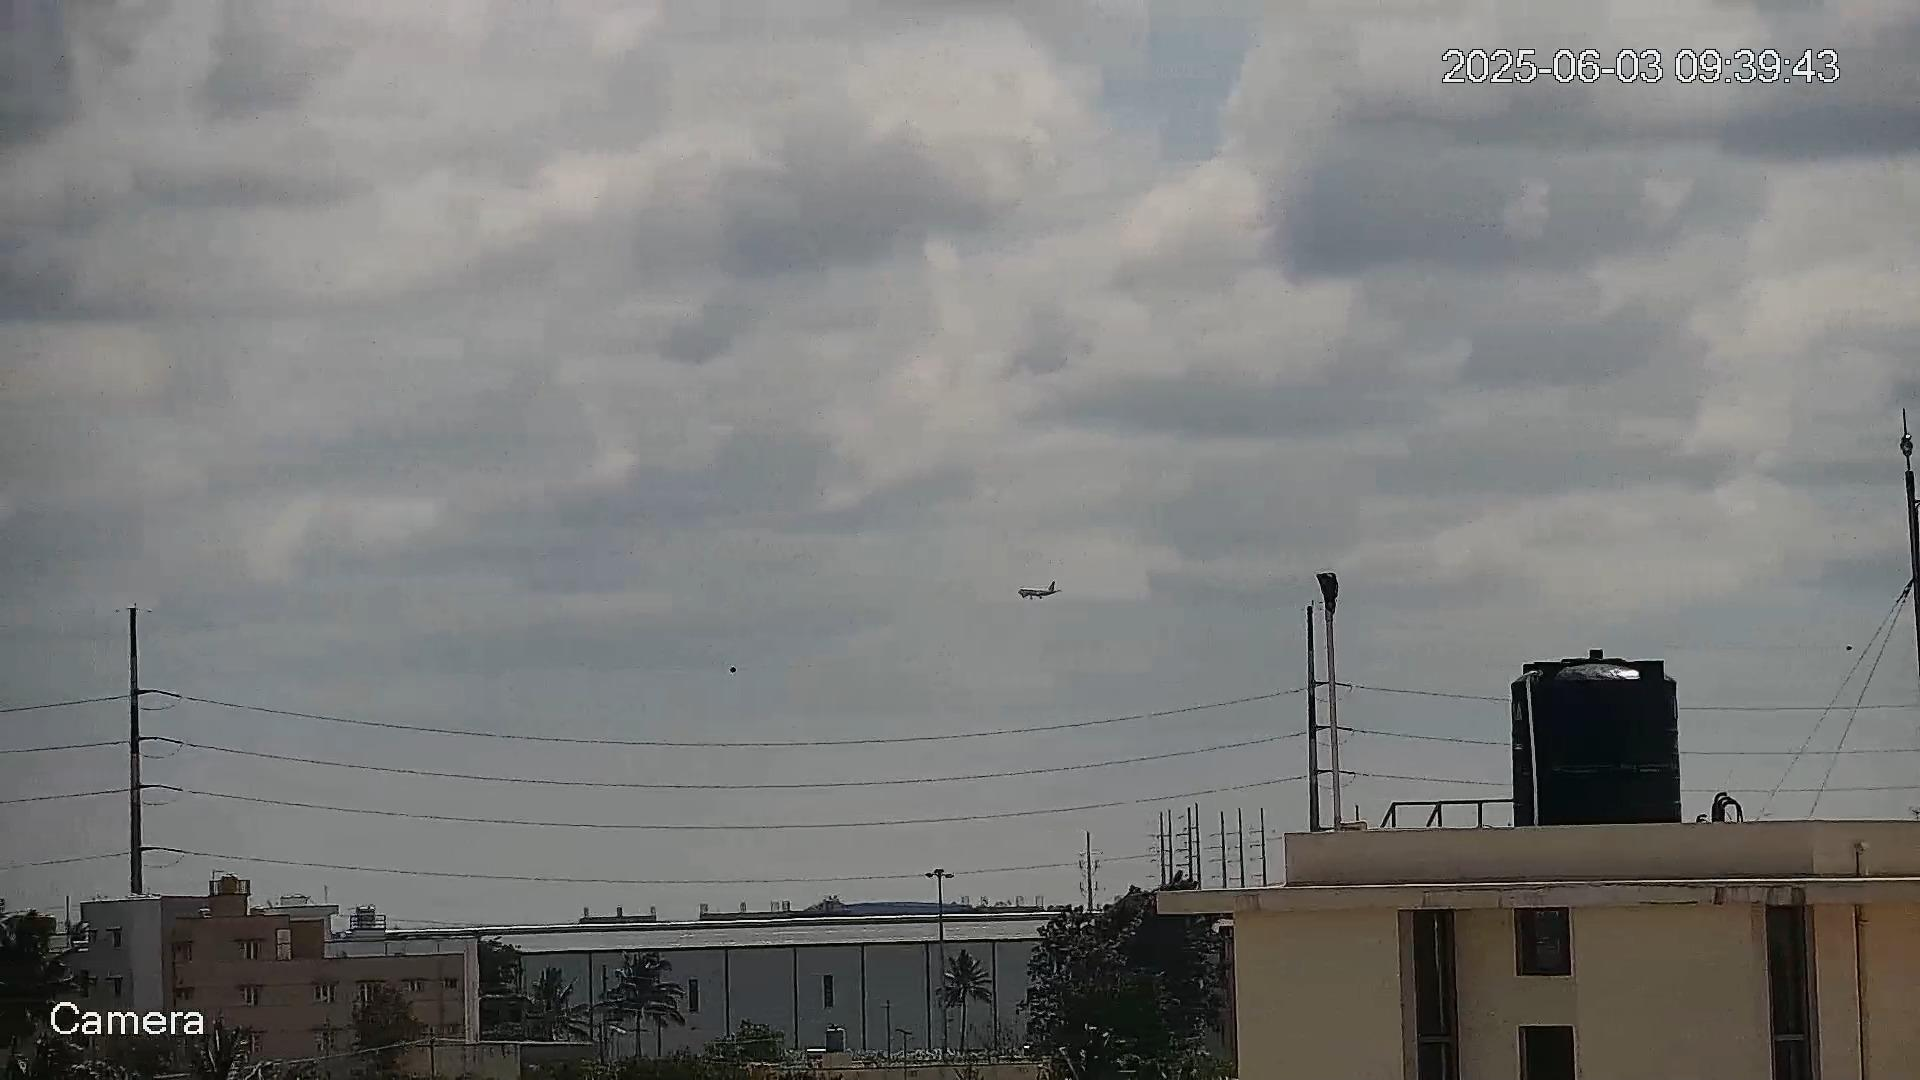Aircraft: (1017, 579, 1060, 600)
